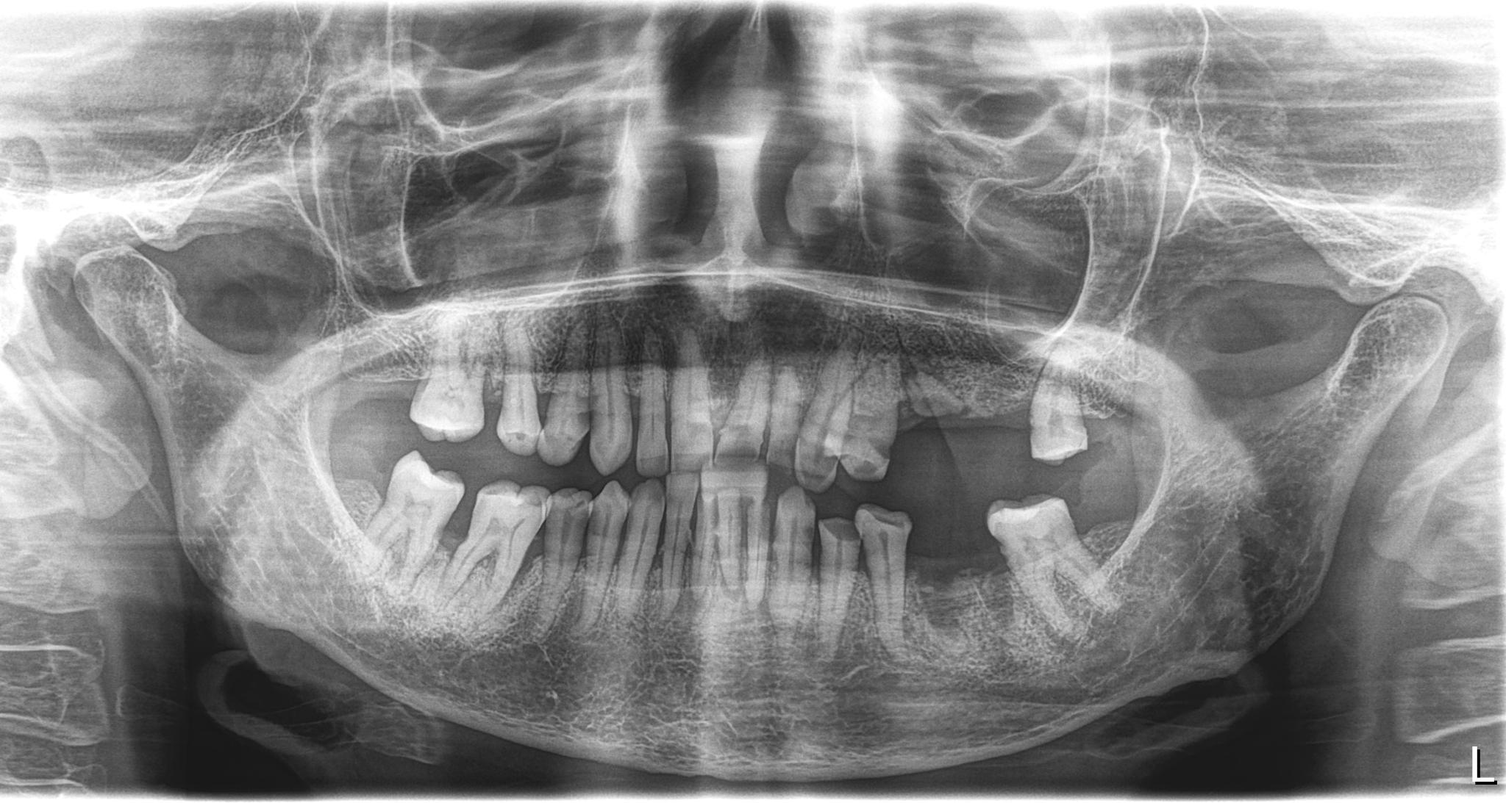Dental Caries: (717, 431, 794, 491), (576, 395, 607, 432)
Missing Tooth: (909, 507, 990, 679), (334, 330, 411, 479), (1086, 496, 1146, 587)
Periapical Lesion: (977, 313, 1127, 485)
Periodontal Pocket: (376, 509, 522, 615)
Retained Root: (902, 350, 965, 490)
